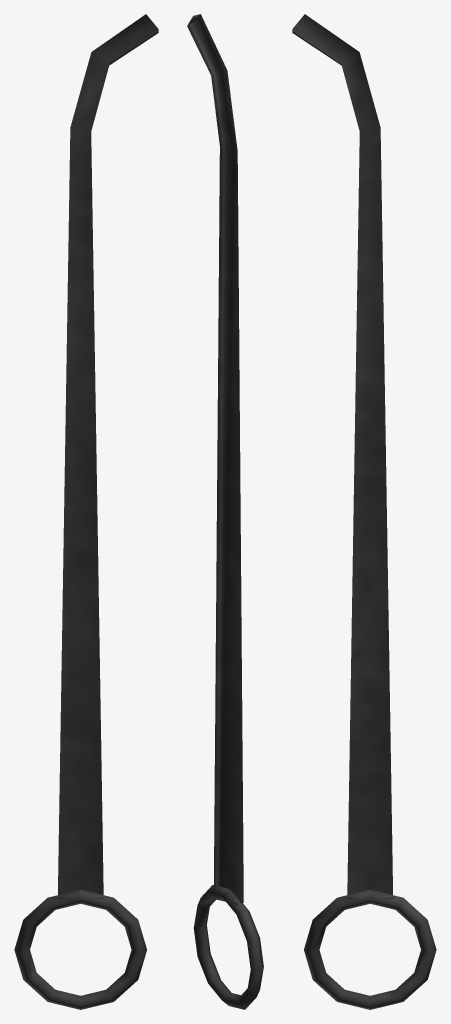
The model's file is it_lockpick.glb.
The picture shows the model from 3 angles, left to right: view 1: azimuth 90°, elevation 25°; view 2: azimuth 210°, elevation 25°; view 3: azimuth 270°, elevation 25°; orthographic projection. The views are drawn at different scales.
Visible parts, largest first — view 1: it_lockpick_lod0; view 2: it_lockpick_lod0; view 3: it_lockpick_lod0.
Part boxes in pixels (x1,y1,x2,y2): it_lockpick_lod0: (14,14,158,1009); it_lockpick_lod0: (187,14,263,1009); it_lockpick_lod0: (292,14,436,1009).
Size of what is drawn, in the model's own units: 0.0024 by 0.1685 by 0.0222.
1 material, 1 textured.
